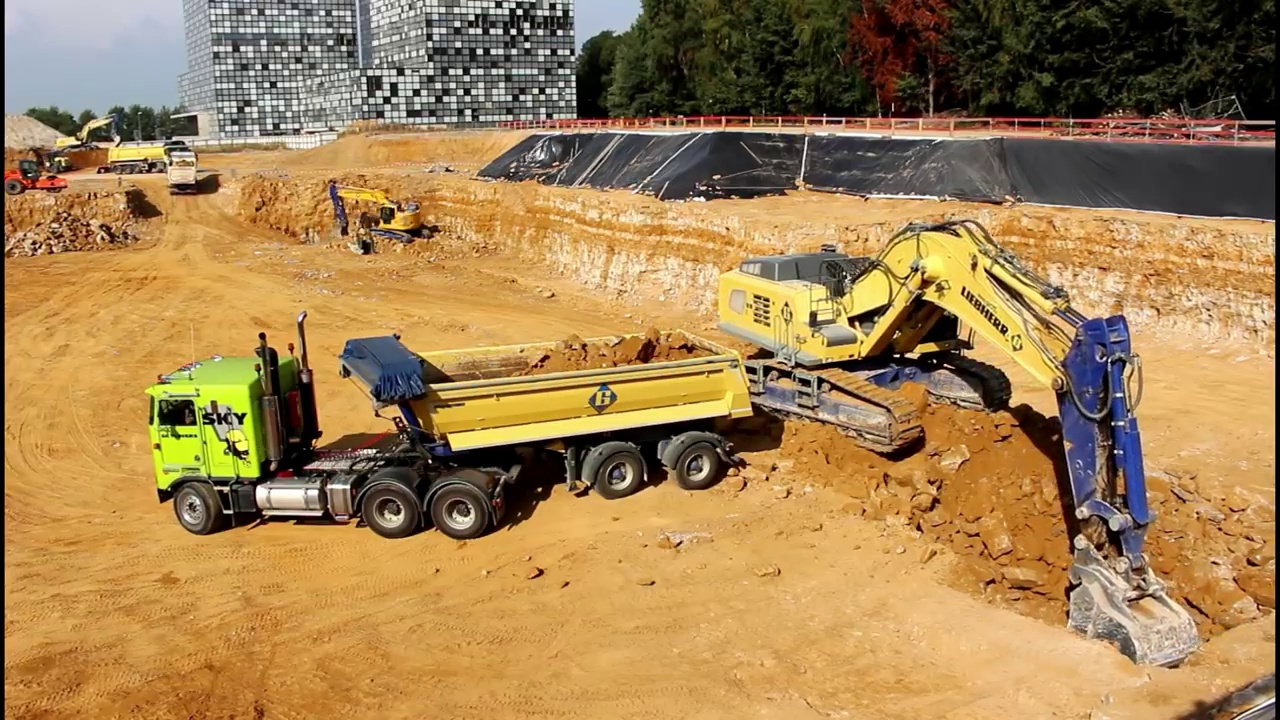compactor: (5, 157, 68, 195)
excavator: (691, 213, 1211, 676), (318, 175, 443, 248), (49, 110, 125, 158)
truck: (137, 306, 763, 547), (105, 134, 195, 176), (160, 143, 204, 196)
